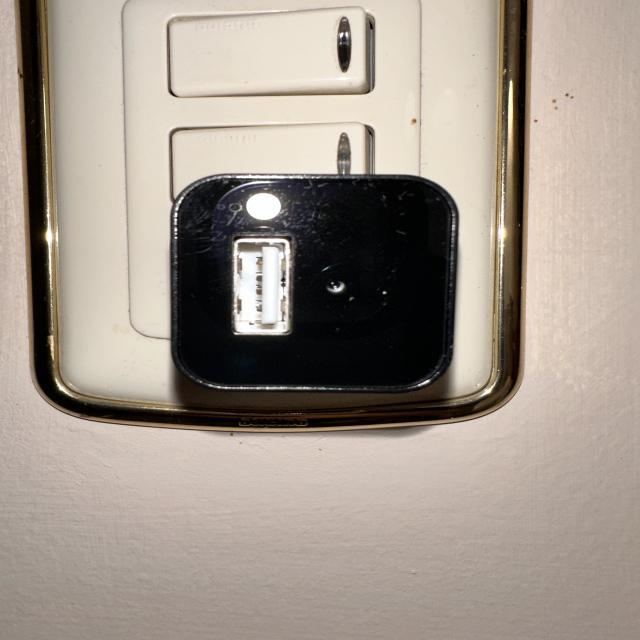hidden camera: (325, 280, 346, 294)
